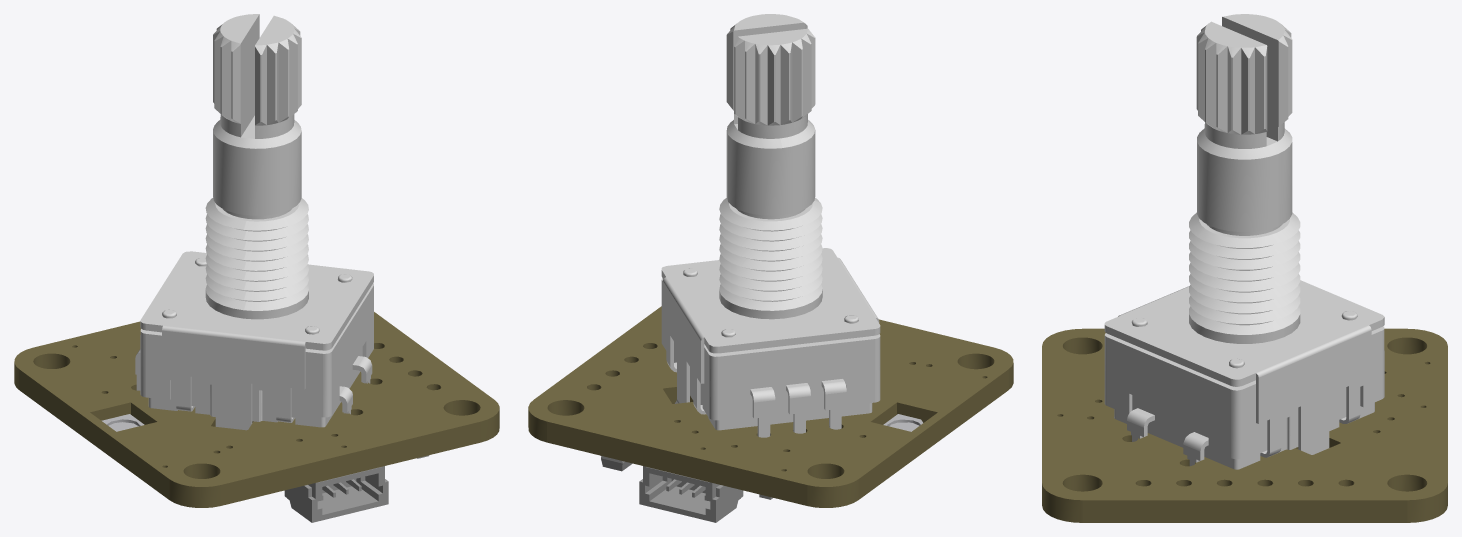
The model's file is ada-4991.glb.
3 views of the same model, side by side, from view 1: azimuth 30°, elevation 25°; view 2: azimuth 150°, elevation 25°; view 3: azimuth 270°, elevation 25° (orthographic). The views are drawn at different scales.
Visible parts, largest first — view 1: 0.75_0.75_0.75_0.85, 0.16666666666666666_0.16666666666666666_0.08333333333333333_, 0.3333333333333333_0.3333333333333333_0.3333333333333333_0; view 2: 0.75_0.75_0.75_0.85, 0.16666666666666666_0.16666666666666666_0.08333333333333333_, 0.3333333333333333_0.3333333333333333_0.3333333333333333_0; view 3: 0.75_0.75_0.75_0.85, 0.16666666666666666_0.16666666666666666_0.08333333333333333_.
Boxes of the visible parts, <box> form: 0.75_0.75_0.75_0.85: <box>135,14,373,430</box>; 0.16666666666666666_0.16666666666666666_0.08333333333333333_: <box>14,312,499,507</box>; 0.3333333333333333_0.3333333333333333_0.3333333333333333_0: <box>284,455,429,522</box>; 0.75_0.75_0.75_0.85: <box>661,14,880,437</box>; 0.16666666666666666_0.16666666666666666_0.08333333333333333_: <box>528,306,1013,507</box>; 0.3333333333333333_0.3333333333333333_0.3333333333333333_0: <box>601,456,772,522</box>; 0.75_0.75_0.75_0.85: <box>1104,14,1384,469</box>; 0.16666666666666666_0.16666666666666666_0.08333333333333333_: <box>1042,328,1447,522</box>.
Bounding box in the file's own units: 2.54 × 3.1 × 2.54.
